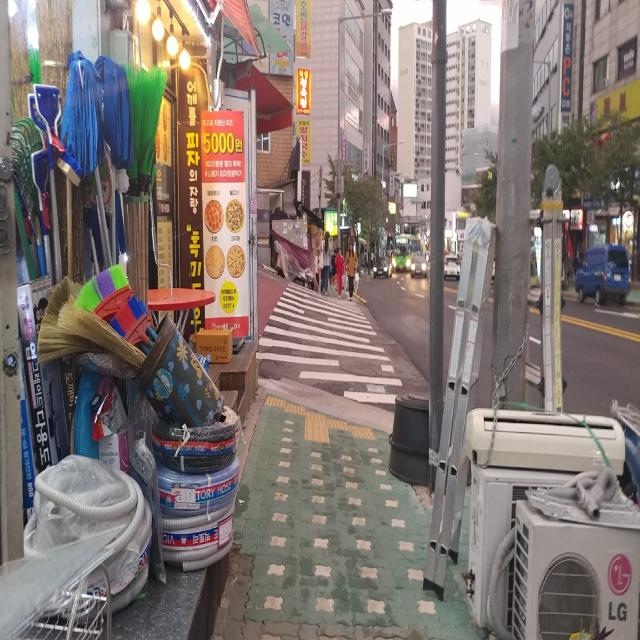횡단보도: (255, 280, 402, 405)
